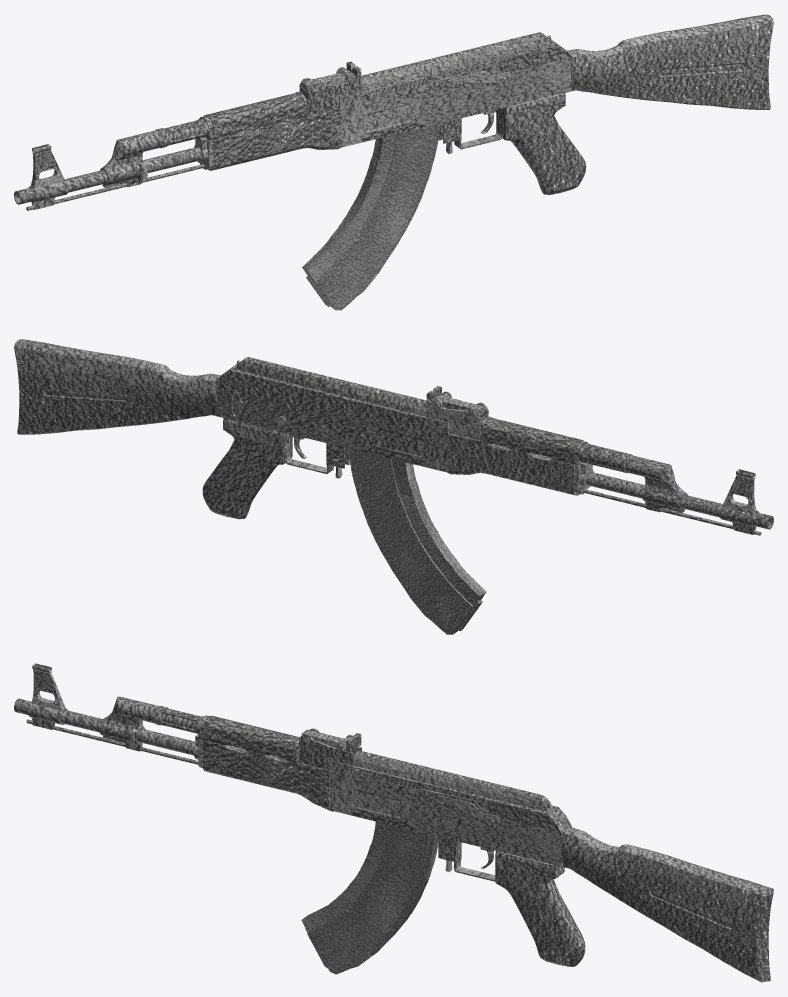
3 views of the same model, one above another, from view 1: azimuth 30°, elevation 25°; view 2: azimuth 150°, elevation 25°; view 3: azimuth 330°, elevation 25° (orthographic).
Parts seen in each view (by area): view 1: AK_47_2, Round_2; view 2: AK_47_2, Round_2; view 3: AK_47_2, Round_2.
Boxes of the visible parts, left/top/right/bottom form: AK_47_2: left=14, top=14, right=773, bottom=210; Round_2: left=302, top=123, right=440, bottom=310; AK_47_2: left=14, top=339, right=773, bottom=535; Round_2: left=348, top=448, right=486, bottom=634; AK_47_2: left=14, top=663, right=773, bottom=982; Round_2: left=301, top=821, right=438, bottom=974.
Size of the model in its own units: 390 by 118 by 13.19.
1 material, 1 textured.
